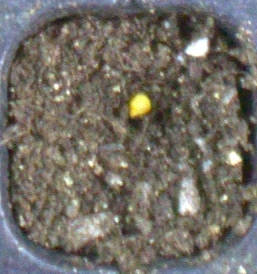pepper seed: (50, 33, 203, 151)
